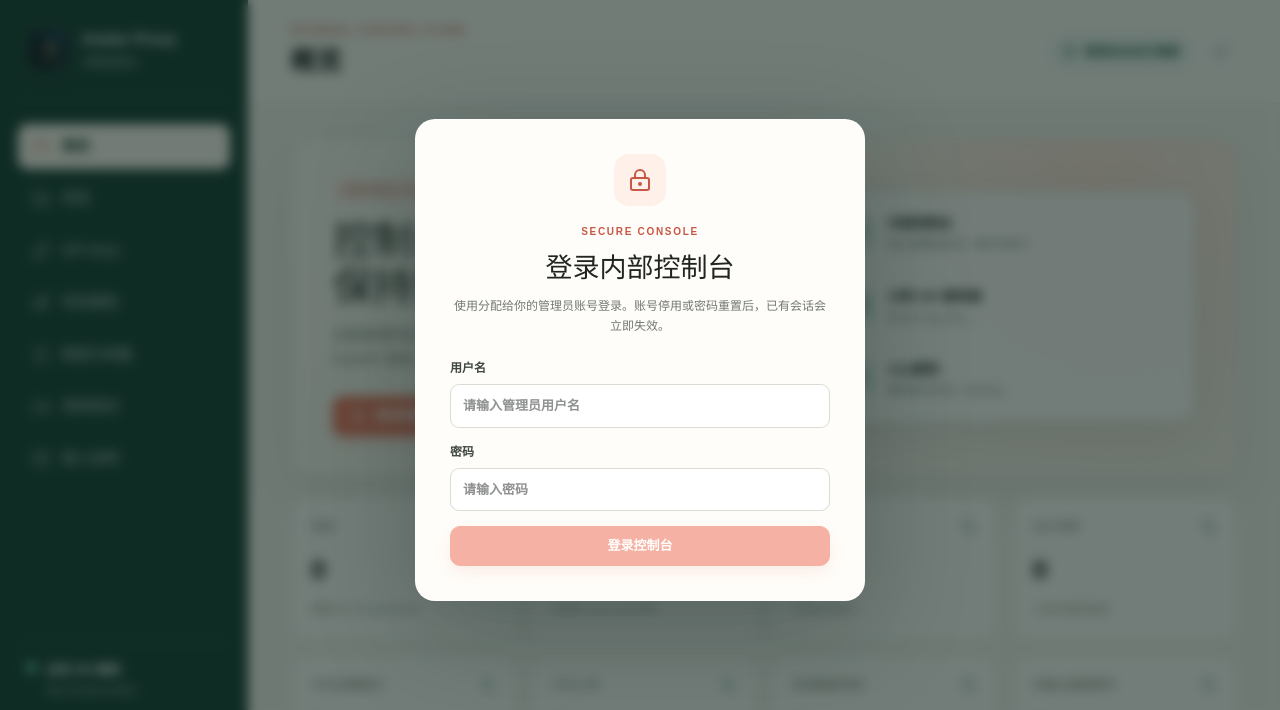
Scenario: 内部控制台 › 使用独立管理员账号登录，并以同源 Session 加载控制台
Expected: the heading "登录内部控制台" is shown, [546,253,734,283]
Type "owner" into the field labelled "用户名" at (640, 406), box [450,384,830,428]
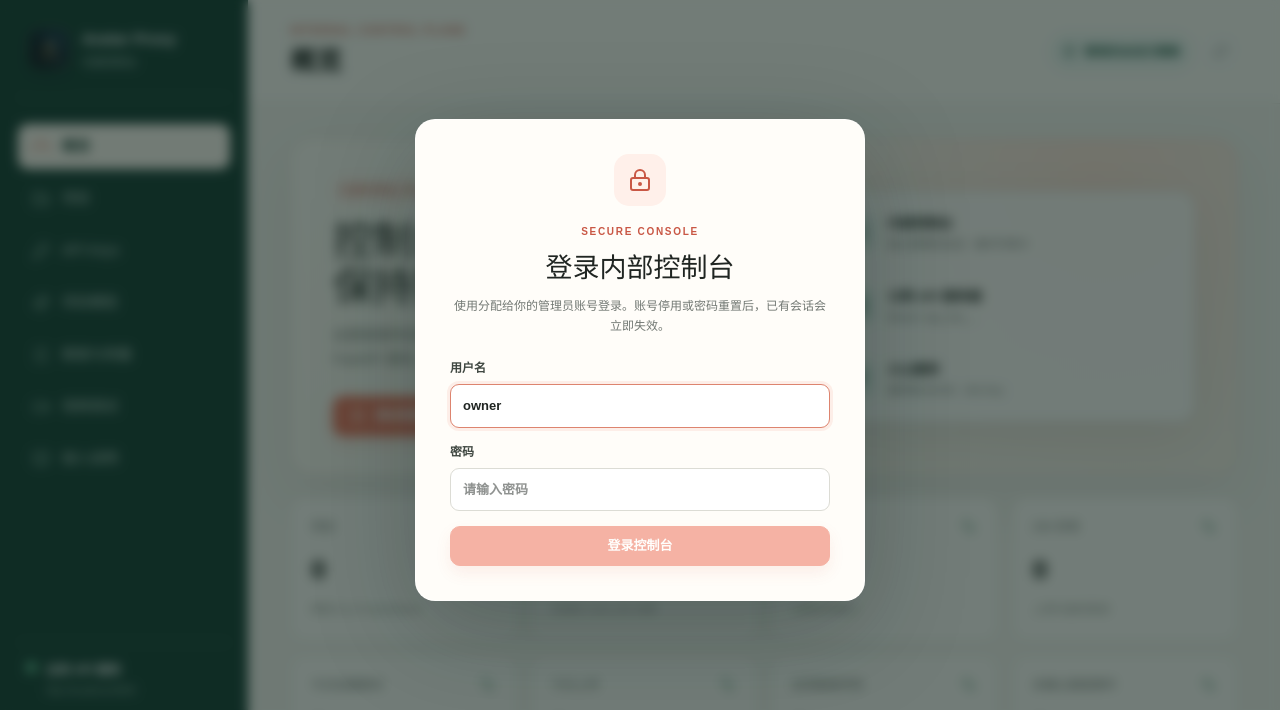
Type "correct-password" into the password field labelled "密码" at (640, 489), box [450,468,830,511]
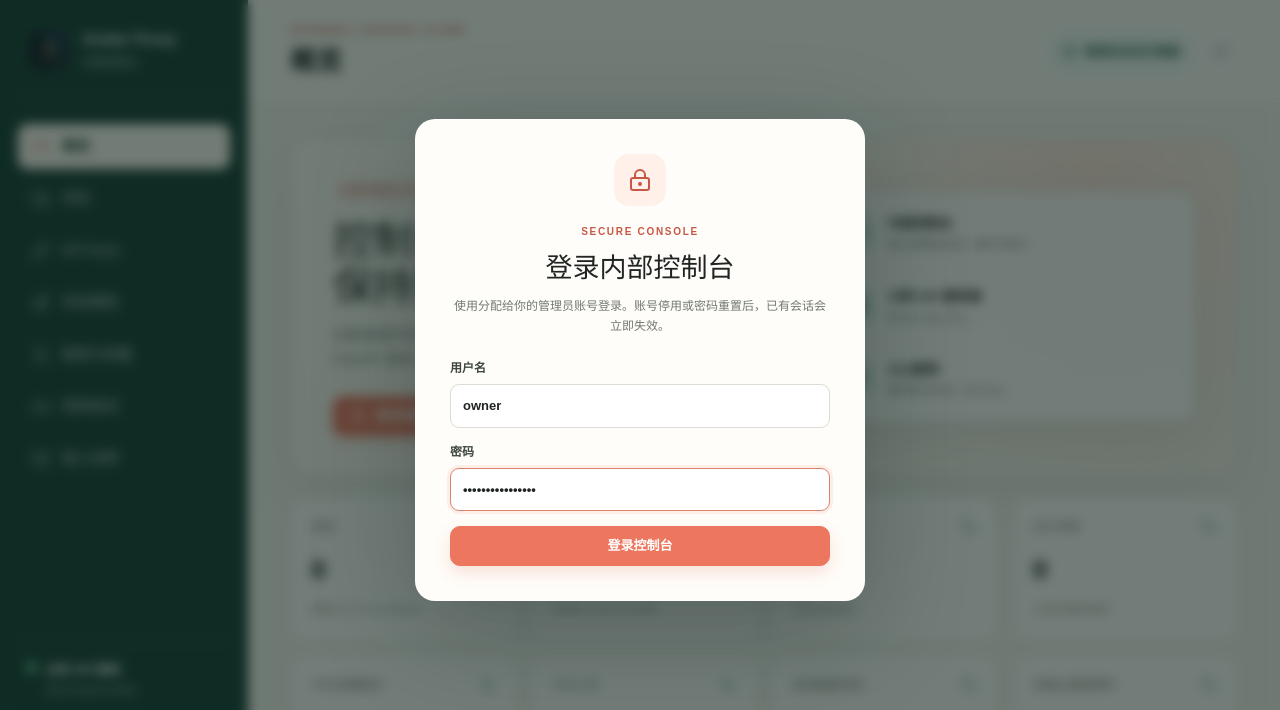
Click the button "登录控制台" at (640, 546), box [450,526,830,566]
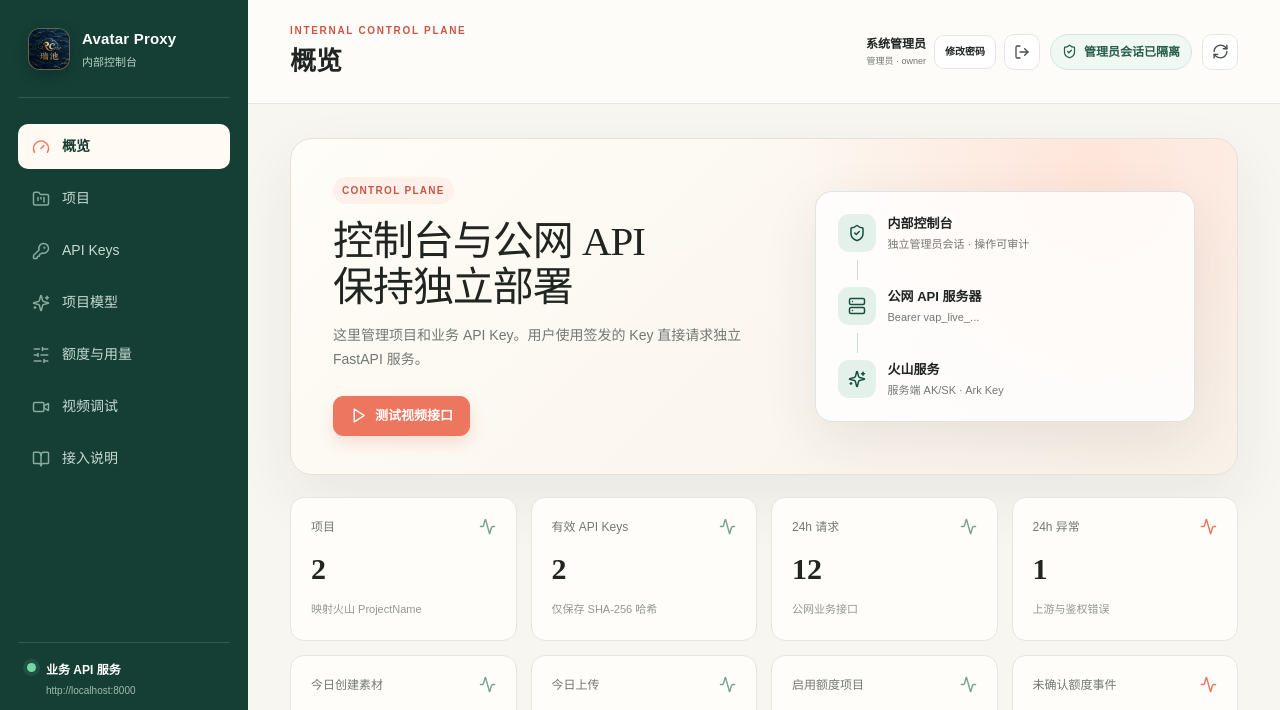
Expected: the text "INTERNAL CONTROL PLANE" is shown, [290,22,466,38]
Expected: the heading "登录内部控制台" is gone
